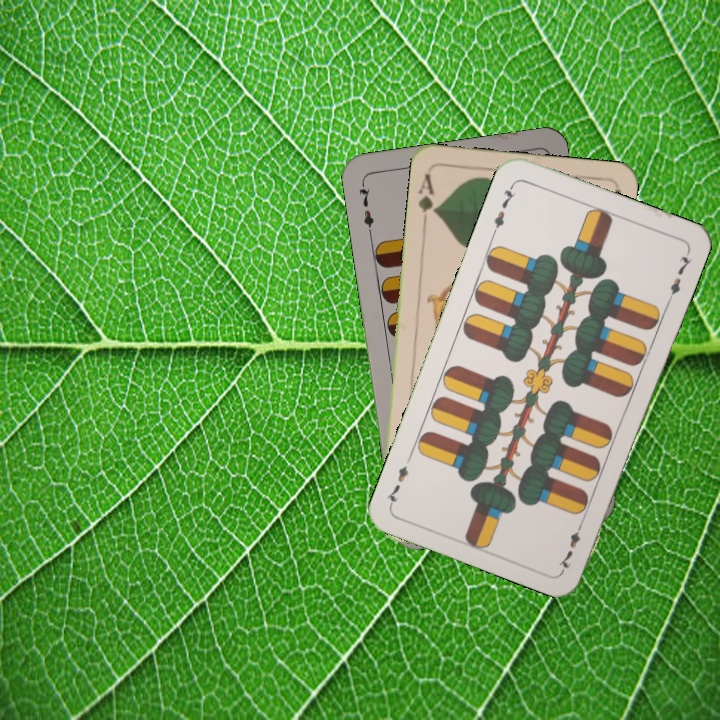E7: (488, 180, 518, 237), (555, 516, 585, 573), (355, 178, 377, 237)
GA: (414, 169, 441, 227)
